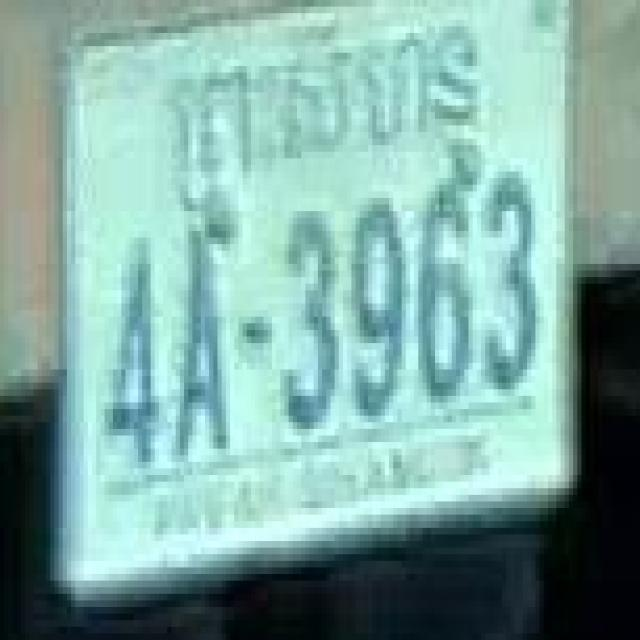Preah_Sihanouk: (176, 26, 481, 212)
